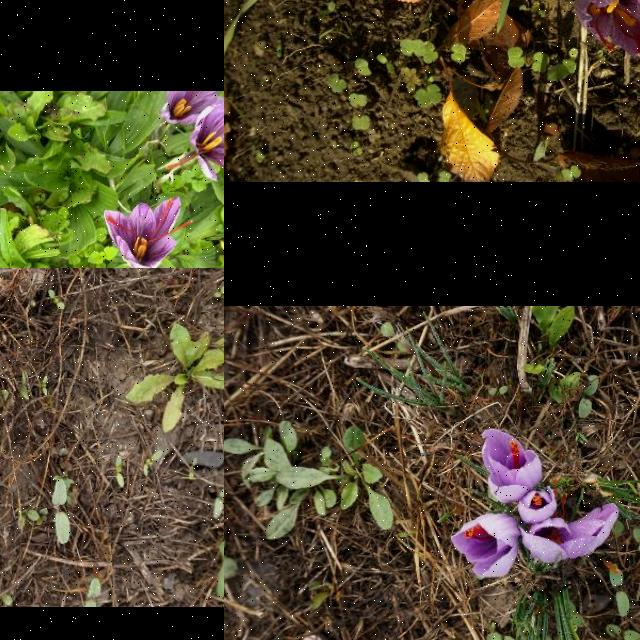flower: (520, 478, 618, 564), (104, 199, 194, 268), (450, 515, 522, 581), (480, 429, 544, 501), (576, 0, 640, 58), (191, 104, 224, 181), (162, 91, 224, 123), (518, 486, 560, 524)
